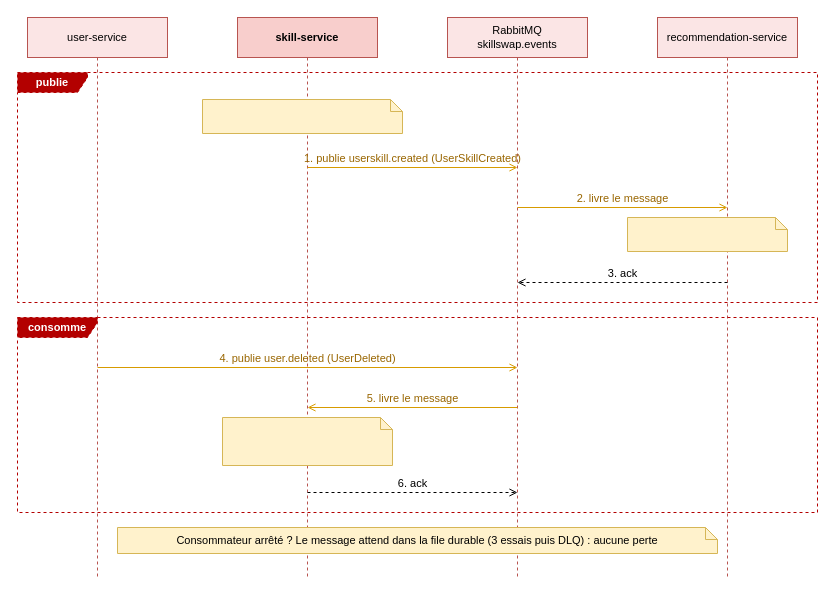
Some shapes in this 835 by 595 pixel diagram are drawn without their labels. The box of each missing label's shape, as (x1, y1, x2, y2) in pixels:
Compétence enregistrée (commit) puis réponse 201: (202, 98, 402, 134)
deactivate() sur toutes les compétences du membre (idempotent via eventId): (222, 416, 392, 466)
met à jour le matching (idempotent via eventId): (626, 216, 788, 252)
